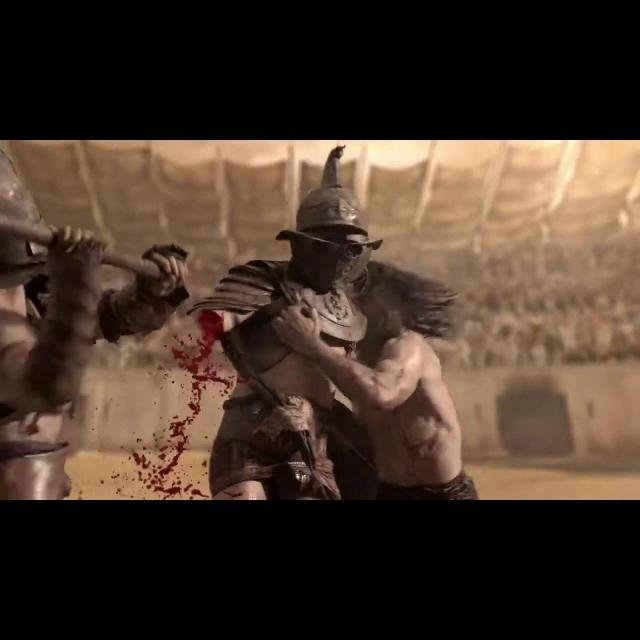blood: (65, 310, 234, 500)
